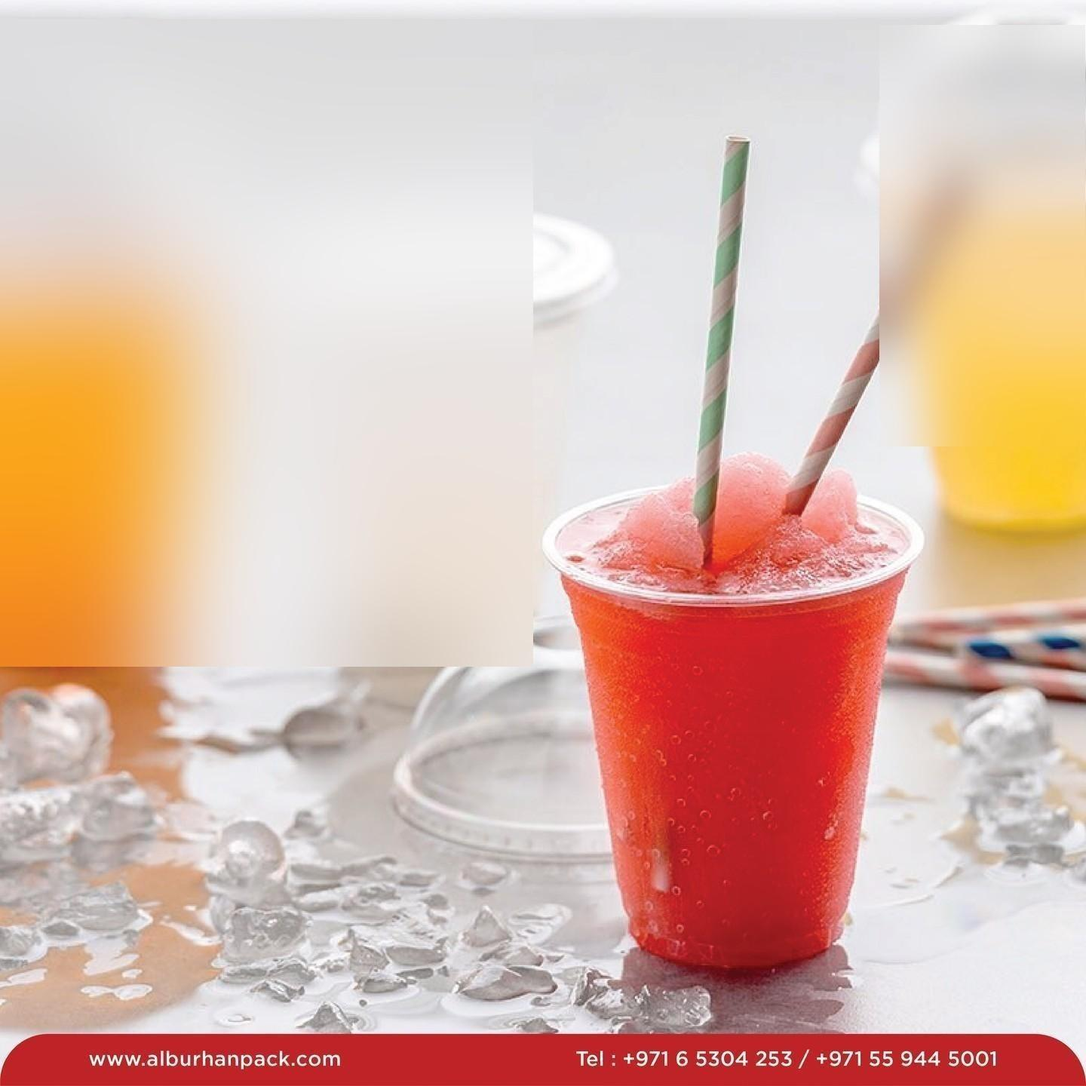cup-disposable: (538, 463, 929, 980)
